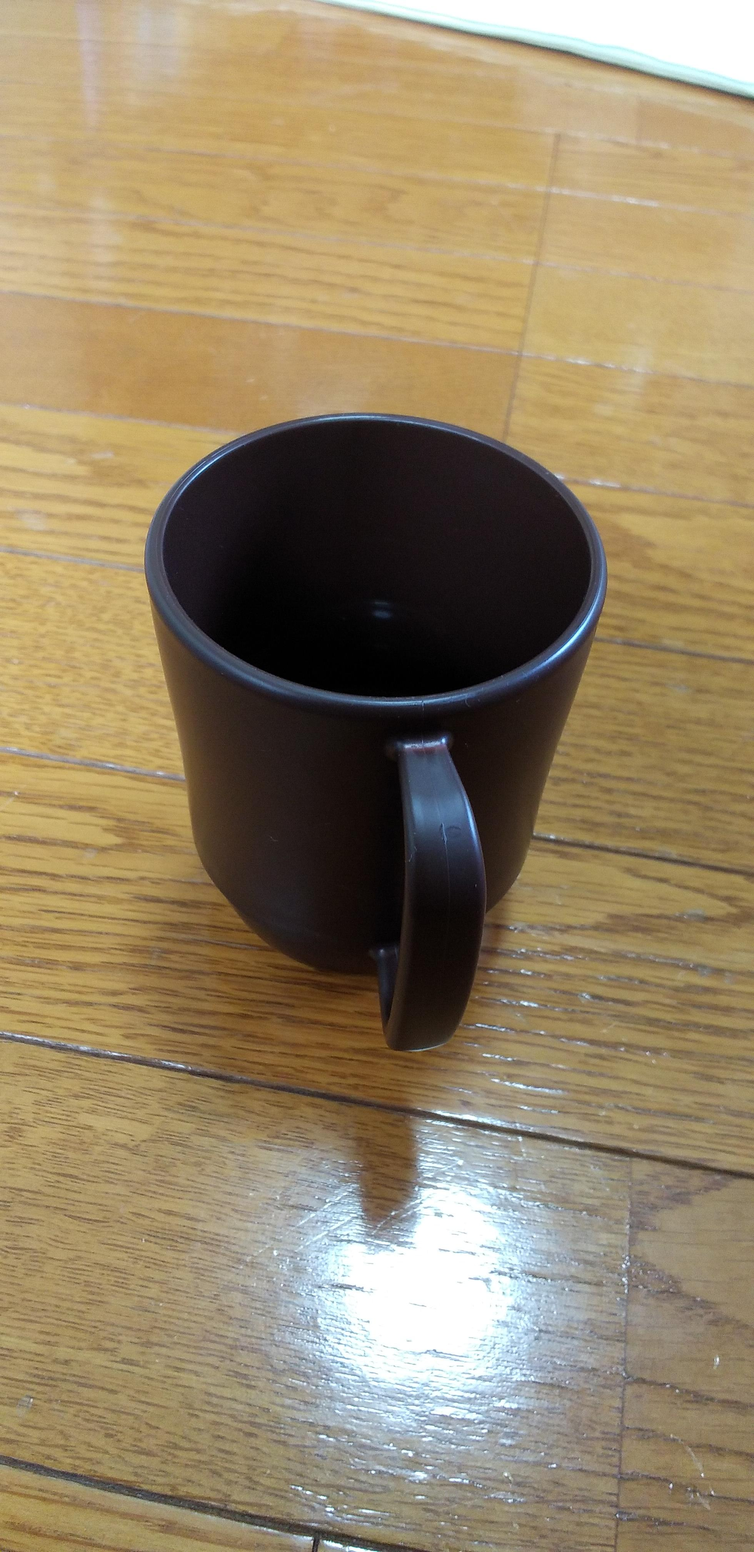mug-real100-3d100: (145, 414, 606, 1051)
